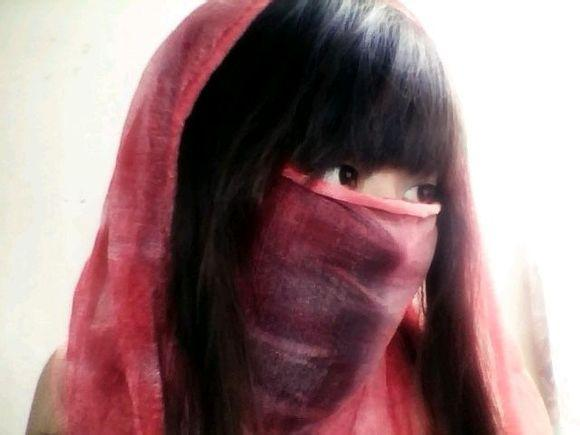OK: (200, 123, 444, 383)
